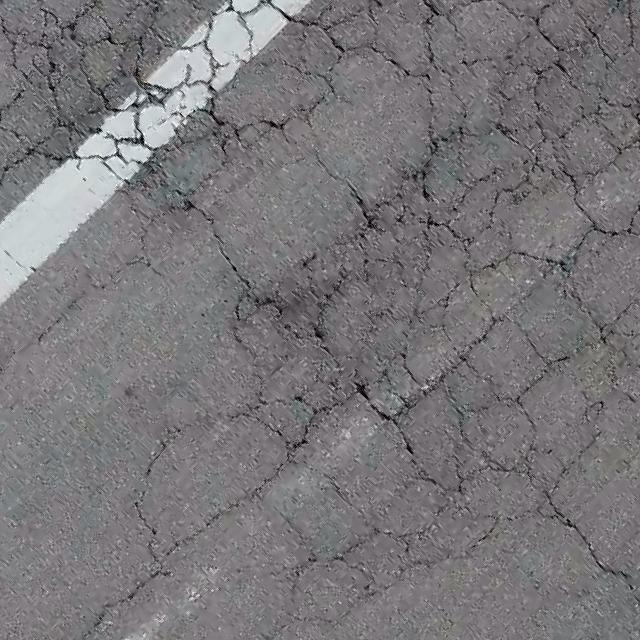GRIETA: (547, 496, 639, 602)
PIEL DE COCODRILO: (0, 0, 639, 639)
